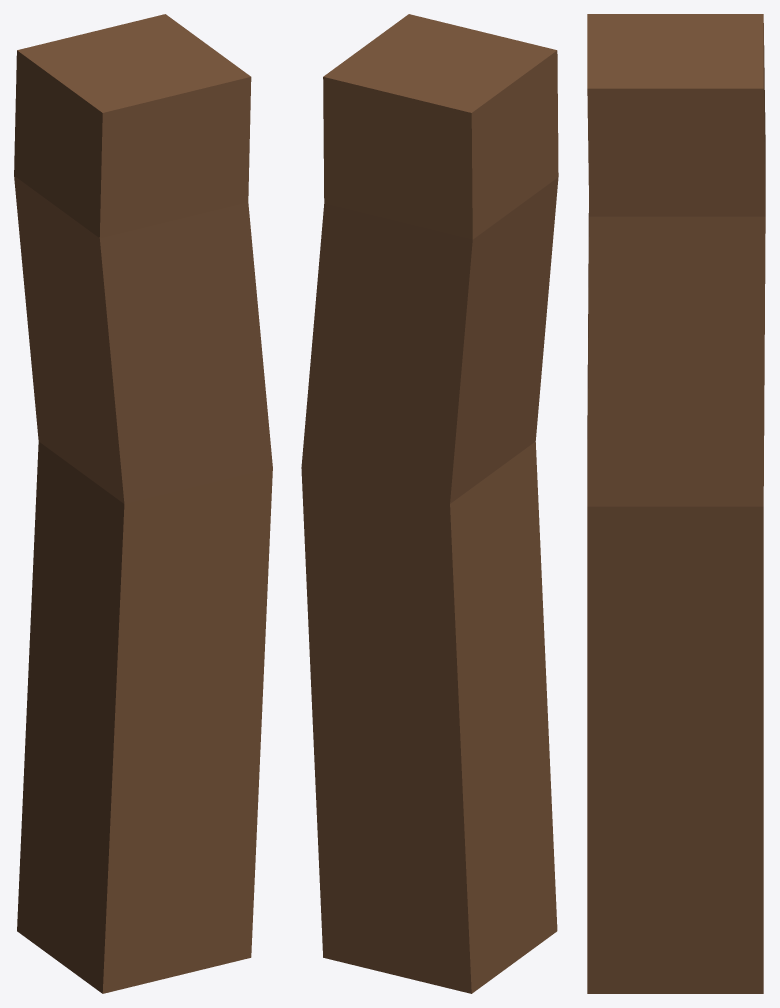
File: Wood_Fence_Pillar.001.fbx
The picture shows the model from 3 angles, left to right: view 1: azimuth 30°, elevation 25°; view 2: azimuth 150°, elevation 25°; view 3: azimuth 270°, elevation 25°; orthographic projection. The views are drawn at different scales.
Visible parts, largest first — view 1: Wood_Fence_Pillar.001; view 2: Wood_Fence_Pillar.001; view 3: Wood_Fence_Pillar.001.
Part boxes in pixels (bbox=[...]): Wood_Fence_Pillar.001: bbox=[14, 14, 272, 993]; Wood_Fence_Pillar.001: bbox=[301, 14, 558, 993]; Wood_Fence_Pillar.001: bbox=[587, 14, 765, 993].
Bounding box in the file's own units: 47.91 × 234 × 41.77.
